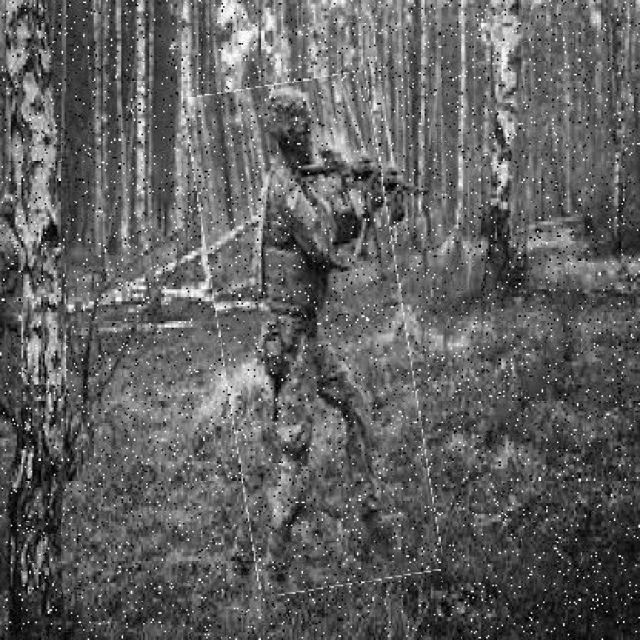Person: (204, 78, 426, 593)
